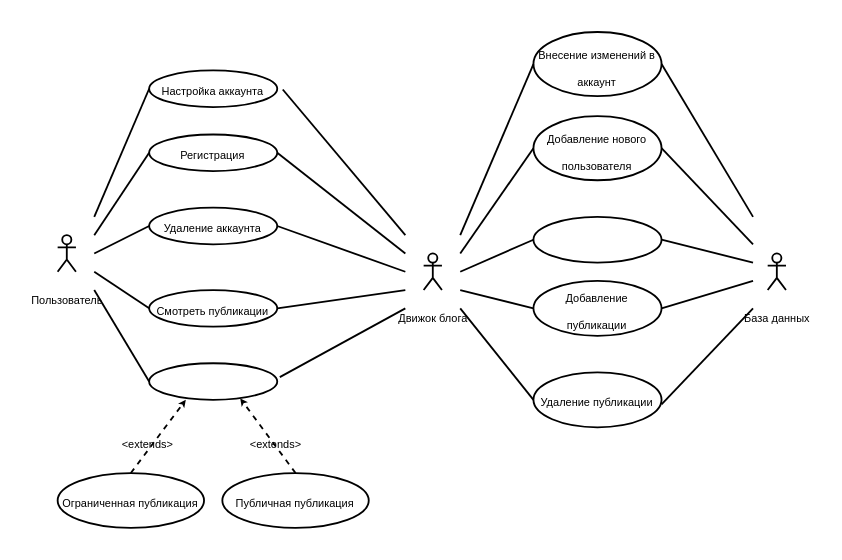
The diagram is 842 pixels wide and 560 high, and some of its shapes have lost their labels. The box of each missing label's shape, as (x1, y1, x2, y2) in pixels:
Создавать публикации: (147, 361, 277, 400)
Удаление пользователя: (532, 215, 662, 263)
